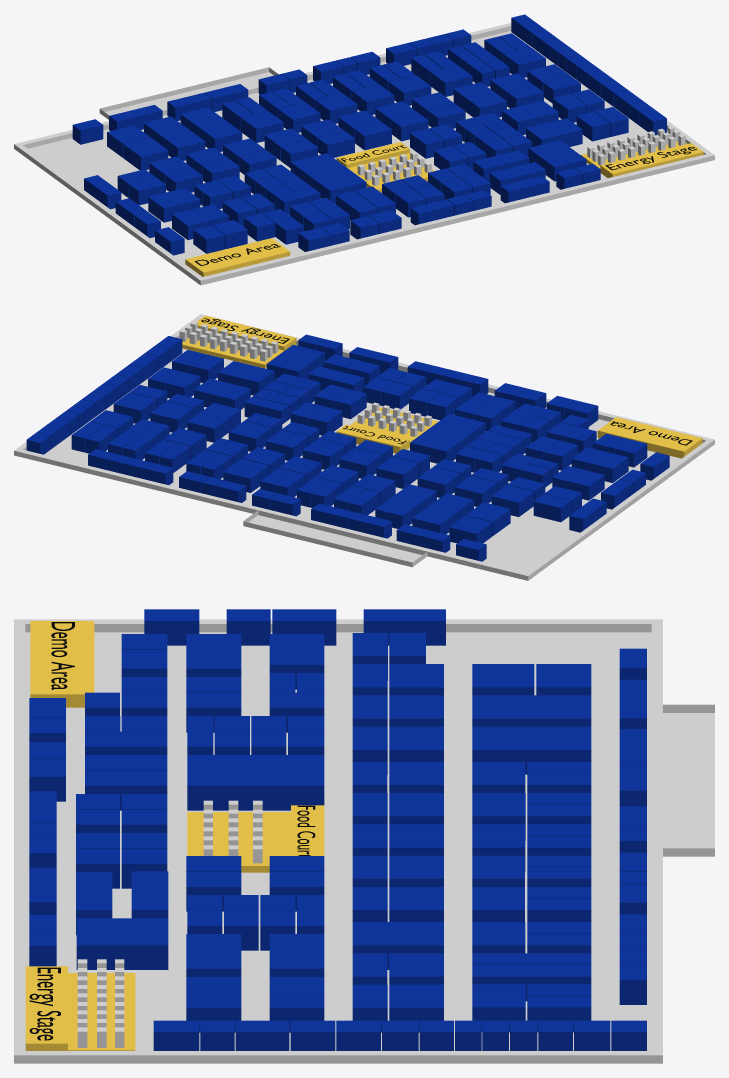
The model's file is OTD Tech Days _Hall_B.glb.
The picture shows the model from 3 angles, top to bottom: view 1: azimuth 30°, elevation 25°; view 2: azimuth 150°, elevation 25°; view 3: azimuth 270°, elevation 25°; orthographic projection. The views are drawn at different scales.
Parts seen in each view (by area): view 1: Logistikk porter_curve_, Logistikk porter_curve_.001, BOOTHLAYER_curve_.B-4040, Demo_Area.B-1600, Cube.005, Energy_stage.B-1350, BOOTHLAYER_curve_.B-2035, BOOTHLAYER_curve_.B-2025, Food_Court.B-4050, BOOTHLAYER_curve_.B-5100, BOOTHLAYER_curve_.B-3100, Cube (+86 smaller); view 2: Logistikk porter_curve_, Logistikk porter_curve_.001, BOOTHLAYER_curve_.B-4040, Demo_Area.B-1600, Energy_stage.B-1350, Cube.005, BOOTHLAYER_curve_.B-2035, BOOTHLAYER_curve_.B-2025, Food_Court.B-4050, BOOTHLAYER_curve_.B-3100, BOOTHLAYER_curve_.B-5100, Cube (+81 smaller); view 3: Logistikk porter_curve_.001, Logistikk porter_curve_, BOOTHLAYER_curve_.B-4040, Energy_stage.B-1350, Food_Court.B-4050, Demo_Area.B-1600, BOOTHLAYER_curve_.B-5100, BOOTHLAYER_curve_.B-2035, BOOTHLAYER_curve_.B-2025, BOOTHLAYER_curve_.B-3100, Cube.005, BOOTHLAYER_curve_.B-2124 (+119 smaller).
Part boxes in pixels (left/top/right/bottom): Logistikk porter_curve_: left=14, top=23, right=714, bottom=285; Logistikk porter_curve_.001: left=28, top=31, right=667, bottom=263; BOOTHLAYER_curve_.B-4040: left=290, top=153, right=366, bottom=203; Demo_Area.B-1600: left=185, top=238, right=290, bottom=276; Cube.005: left=587, top=126, right=685, bottom=165; Energy_stage.B-1350: left=581, top=142, right=703, bottom=177; BOOTHLAYER_curve_.B-2035: left=180, top=107, right=242, bottom=151; BOOTHLAYER_curve_.B-2025: left=144, top=116, right=205, bottom=160; Food_Court.B-4050: left=336, top=142, right=434, bottom=192; BOOTHLAYER_curve_.B-5100: left=528, top=140, right=586, bottom=181; BOOTHLAYER_curve_.B-3100: left=453, top=82, right=506, bottom=117; Cube: left=357, top=151, right=431, bottom=185; Logistikk porter_curve_: left=14, top=314, right=714, bottom=580; Logistikk porter_curve_.001: left=44, top=345, right=680, bottom=572; BOOTHLAYER_curve_.B-4040: left=410, top=414, right=485, bottom=463; Demo_Area.B-1600: left=597, top=417, right=702, bottom=458; Energy_stage.B-1350: left=182, top=315, right=296, bottom=368; Cube.005: left=179, top=321, right=278, bottom=361; BOOTHLAYER_curve_.B-2035: left=375, top=484, right=436, bottom=528; BOOTHLAYER_curve_.B-2025: left=412, top=493, right=473, bottom=534; Food_Court.B-4050: left=336, top=407, right=437, bottom=453; BOOTHLAYER_curve_.B-3100: left=187, top=403, right=240, bottom=442; BOOTHLAYER_curve_.B-5100: left=266, top=344, right=324, bottom=379; Cube: left=357, top=402, right=431, bottom=436; Logistikk porter_curve_.001: left=25, top=632, right=714, bottom=1050; Logistikk porter_curve_: left=14, top=619, right=714, bottom=1063; BOOTHLAYER_curve_.B-4040: left=187, top=755, right=324, bottom=810; Energy_stage.B-1350: left=25, top=966, right=135, bottom=1050; Food_Court.B-4050: left=187, top=805, right=324, bottom=872; Demo_Area.B-1600: left=30, top=621, right=94, bottom=707; BOOTHLAYER_curve_.B-5100: left=76, top=918, right=168, bottom=969; BOOTHLAYER_curve_.B-2035: left=472, top=726, right=591, bottom=774; BOOTHLAYER_curve_.B-2025: left=472, top=695, right=591, bottom=726; BOOTHLAYER_curve_.B-3100: left=352, top=922, right=443, bottom=969; Cube.005: left=77, top=959, right=124, bottom=1047; BOOTHLAYER_curve_.B-2124: left=472, top=965, right=591, bottom=1001.
Bounding box in the file's own units: 113 × 3 × 76.73.
